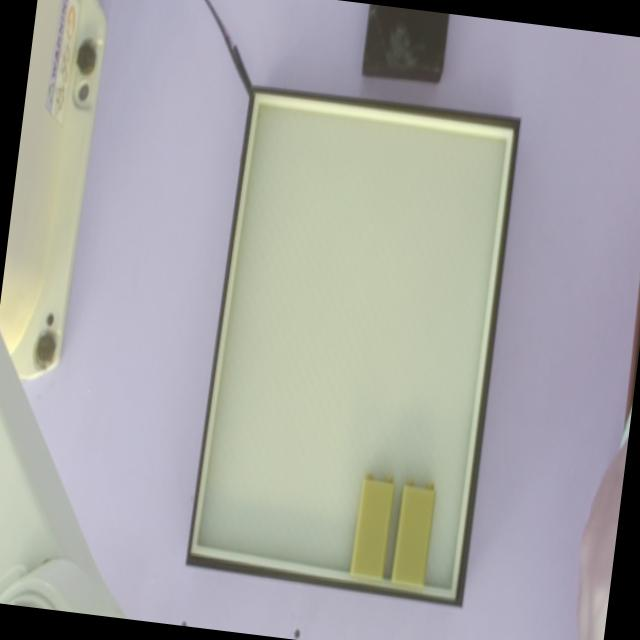bateria: (350, 471, 395, 579), (391, 479, 436, 587)
mesa: (185, 85, 521, 608)
